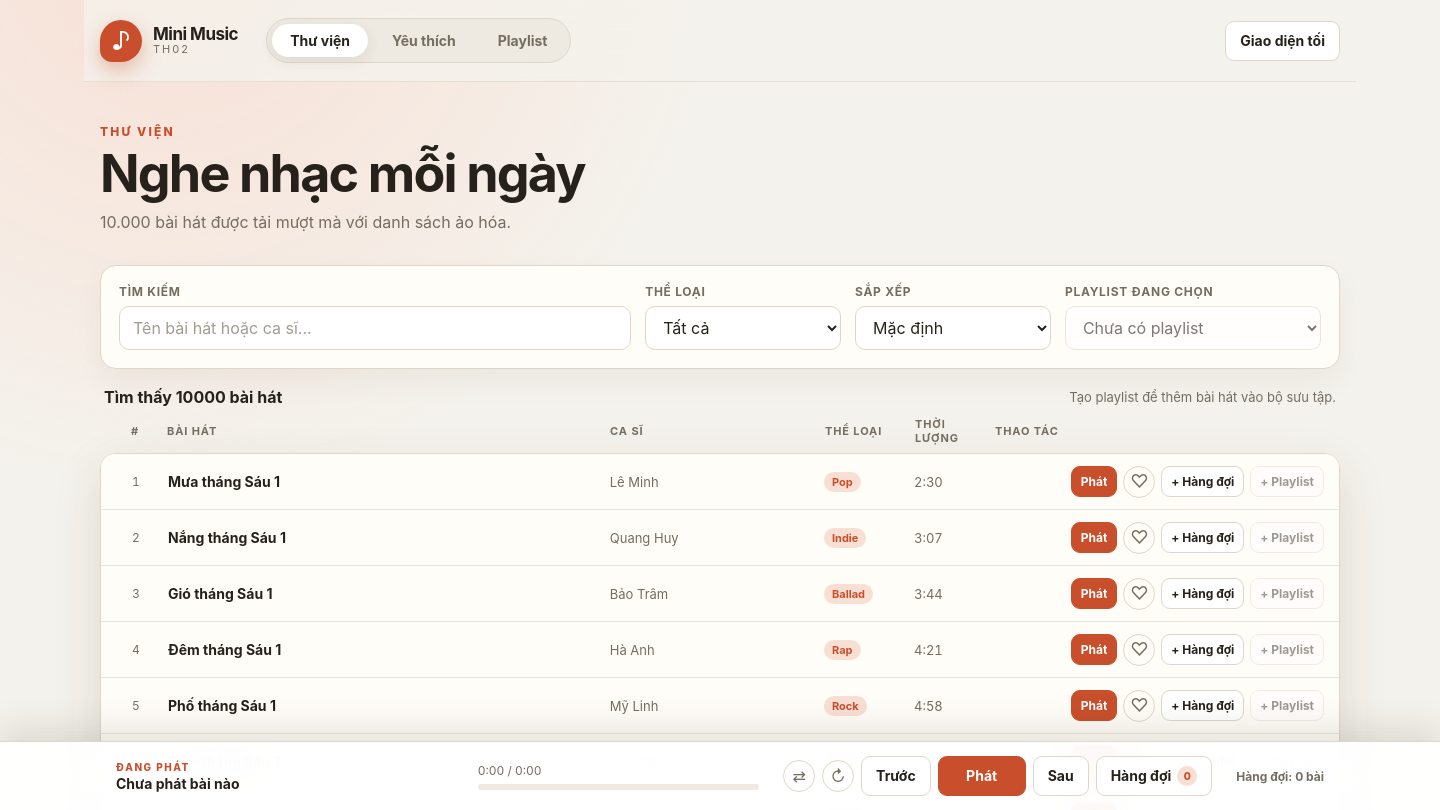
Test: App › đổi giao diện sáng tối từ thanh menu
This screenshot has width=1440, height=810.
Step 1. Click the button "Giao diện tối" → (1283, 40), box [1225, 20, 1340, 60]
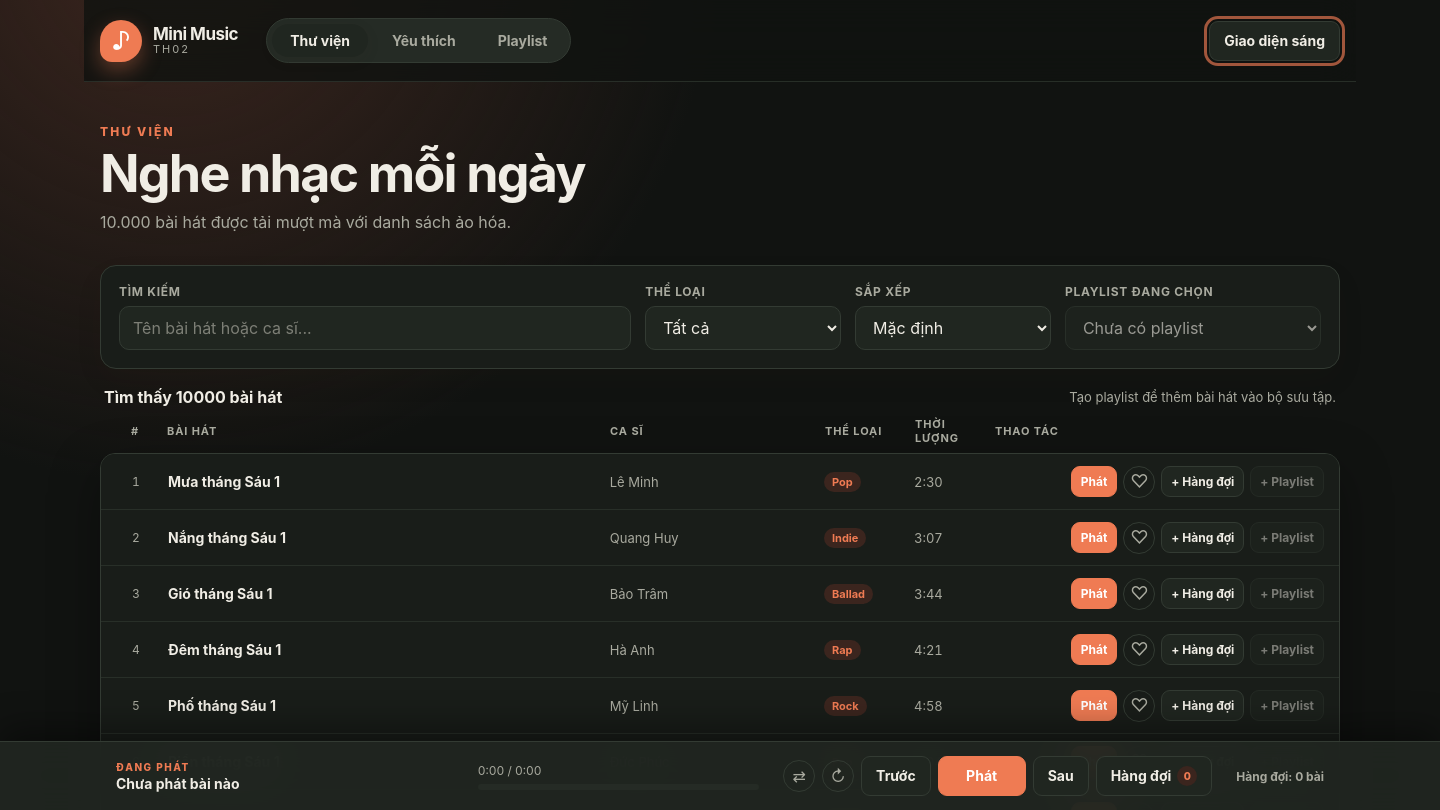
Result: the button "Giao diện sáng" is shown at [1209, 20, 1340, 60]
